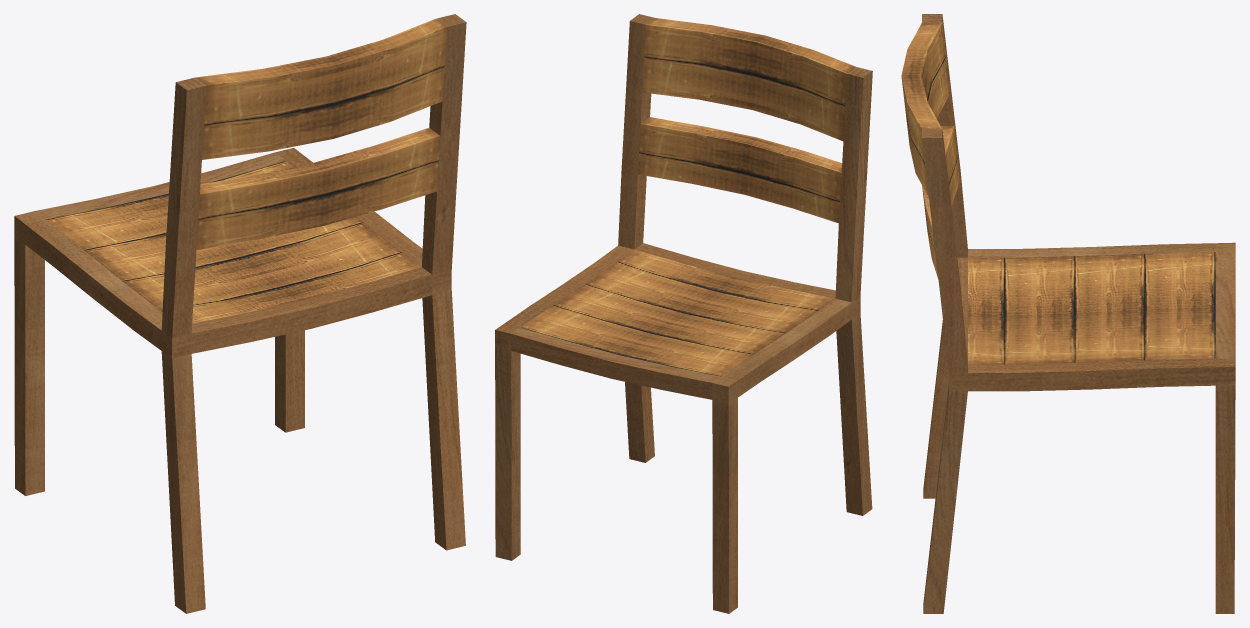
File: Chair.fbx
The picture shows the model from 3 angles, left to right: view 1: azimuth 30°, elevation 25°; view 2: azimuth 150°, elevation 25°; view 3: azimuth 270°, elevation 25°; orthographic projection. The views are drawn at different scales.
Visible parts, largest first — view 1: Chair_Main; view 2: Chair_Main; view 3: Chair_Main.
Part boxes in pixels (left/top/right/bottom): Chair_Main: left=14, top=14, right=466, bottom=613; Chair_Main: left=495, top=14, right=872, bottom=613; Chair_Main: left=901, top=14, right=1235, bottom=613.
Bounding box in the file's own units: 43 × 76.99 × 48.98.
